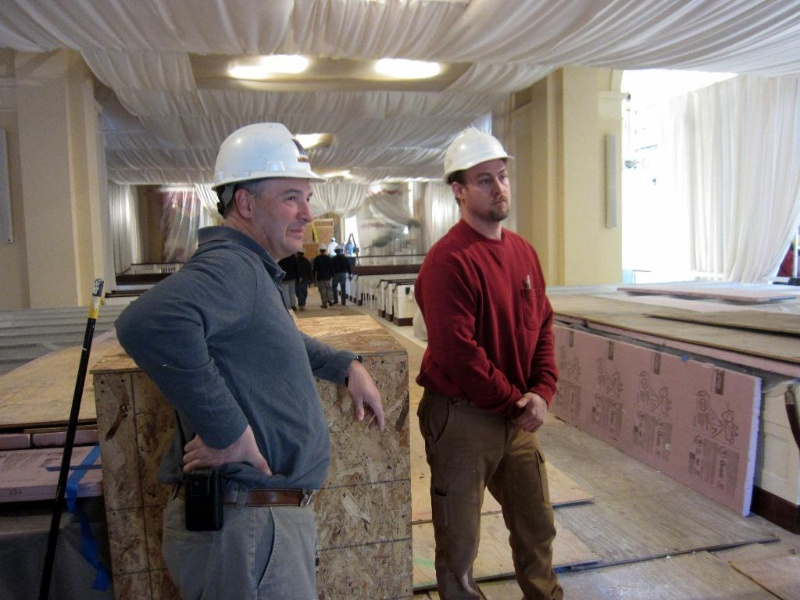Baret: (210, 121, 328, 186), (443, 128, 516, 173)
